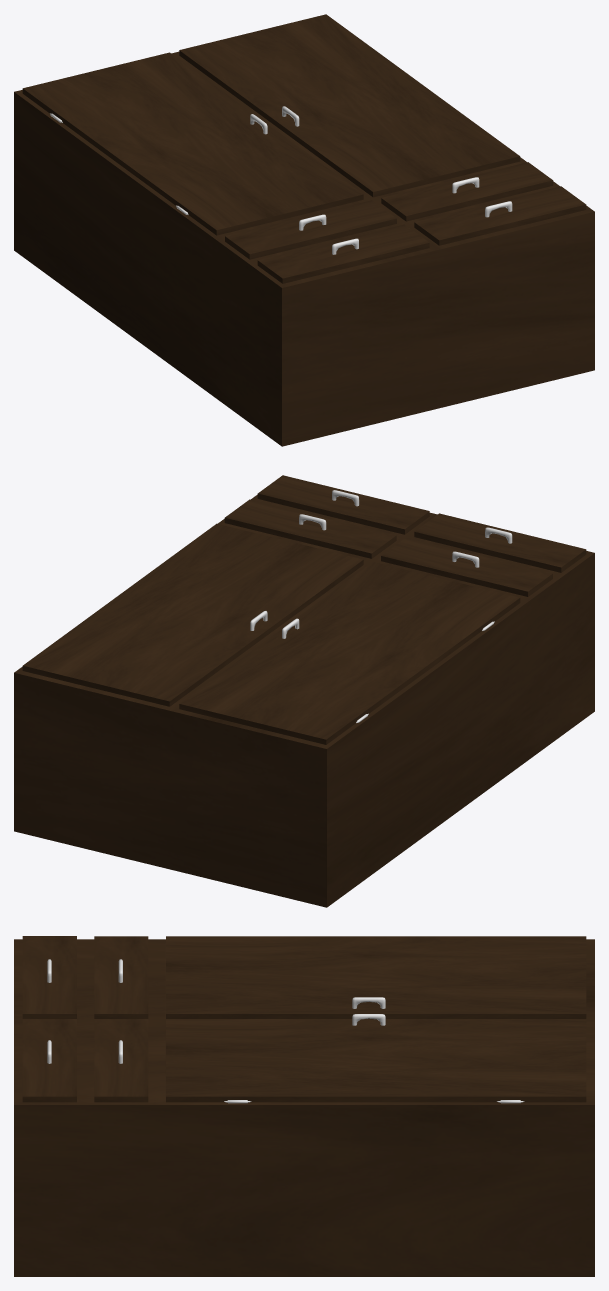
The model's file is Armario.fbx.
3 views of the same model, one above another, from view 1: azimuth 30°, elevation 25°; view 2: azimuth 150°, elevation 25°; view 3: azimuth 270°, elevation 25° (orthographic). The views are drawn at different scales.
Visible parts, largest first — view 1: ArmarioCuerpo, ArmarioPuertaDer.001, ArmarioPuertaIzq.001, ArmarioCajonInfDer.001, ArmarioCajonSupIzq.001, ArmarioCajonInfIzq.001, ArmarioCajonSupDer.001; view 2: ArmarioCuerpo, ArmarioPuertaDer.001, ArmarioPuertaIzq.001, ArmarioCajonSupIzq.001, ArmarioCajonInfIzq.001, ArmarioCajonInfDer.001, ArmarioCajonSupDer.001; view 3: ArmarioCuerpo, ArmarioPuertaIzq.001, ArmarioPuertaDer.001, ArmarioCajonSupIzq.001, ArmarioCajonInfIzq.001, ArmarioCajonSupDer.001, ArmarioCajonInfDer.001.
Part boxes in pixels (x1,y1,x2,y2): ArmarioCuerpo: (14,51,594,446); ArmarioPuertaDer.001: (22,52,363,235); ArmarioPuertaIzq.001: (179,14,520,197); ArmarioCajonInfDer.001: (257,224,429,283); ArmarioCajonSupIzq.001: (381,162,553,221); ArmarioCajonInfIzq.001: (414,186,586,245); ArmarioCajonSupDer.001: (225,200,396,259); ArmarioCuerpo: (14,494,594,907); ArmarioPuertaDer.001: (179,562,520,744); ArmarioPuertaIzq.001: (22,523,363,706); ArmarioCajonSupIzq.001: (224,499,396,558); ArmarioCajonInfIzq.001: (257,475,429,534); ArmarioCajonInfDer.001: (414,513,586,572); ArmarioCajonSupDer.001: (381,537,552,596); ArmarioCuerpo: (14,939,594,1276); ArmarioPuertaIzq.001: (166,1014,586,1103); ArmarioPuertaDer.001: (166,936,586,1018); ArmarioCajonSupIzq.001: (94,1019,148,1102); ArmarioCajonInfIzq.001: (22,1019,76,1102); ArmarioCajonSupDer.001: (94,936,148,1018); ArmarioCajonInfDer.001: (22,936,76,1018).
Bounding box in the file's own units: 156 × 82.67 × 231.
